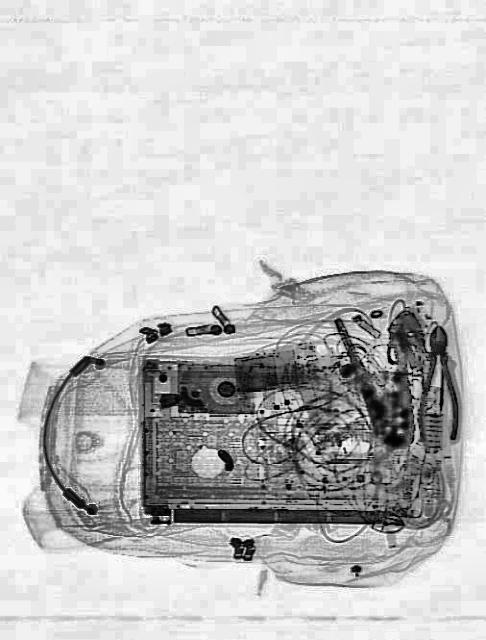Pliers: (333, 294, 431, 458), (414, 324, 458, 442)
